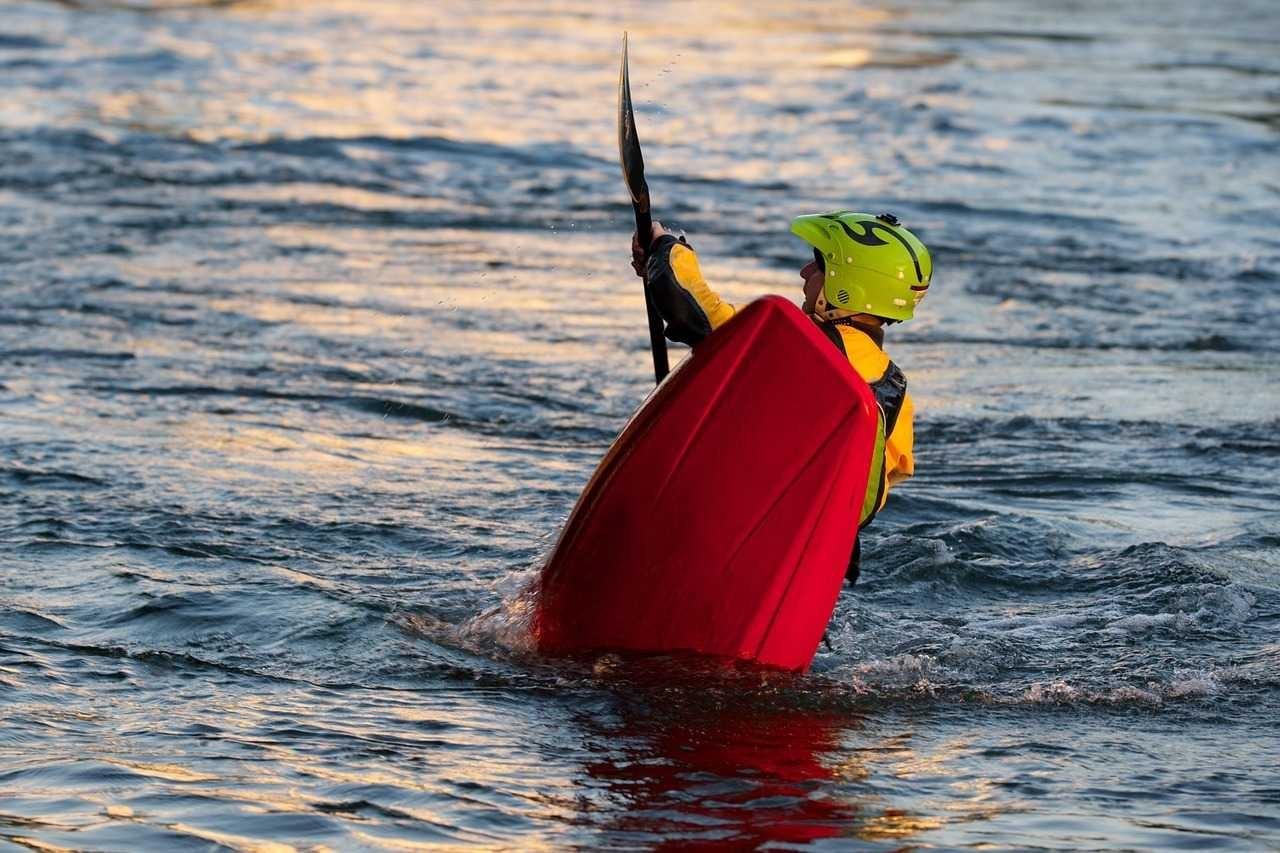kayak: (511, 291, 898, 677)
